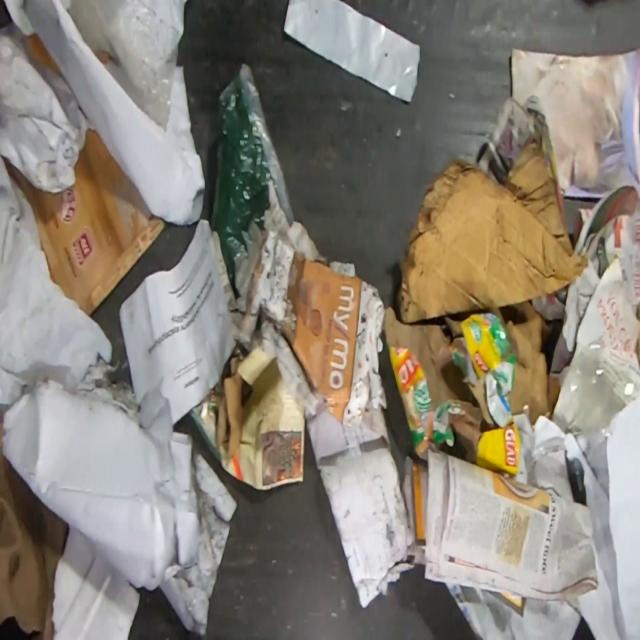cardboard: (398, 134, 589, 323), (382, 300, 560, 477), (4, 127, 164, 317)
soft_plastic: (209, 61, 296, 299), (68, 0, 188, 133), (282, 0, 421, 104), (554, 341, 640, 463)
